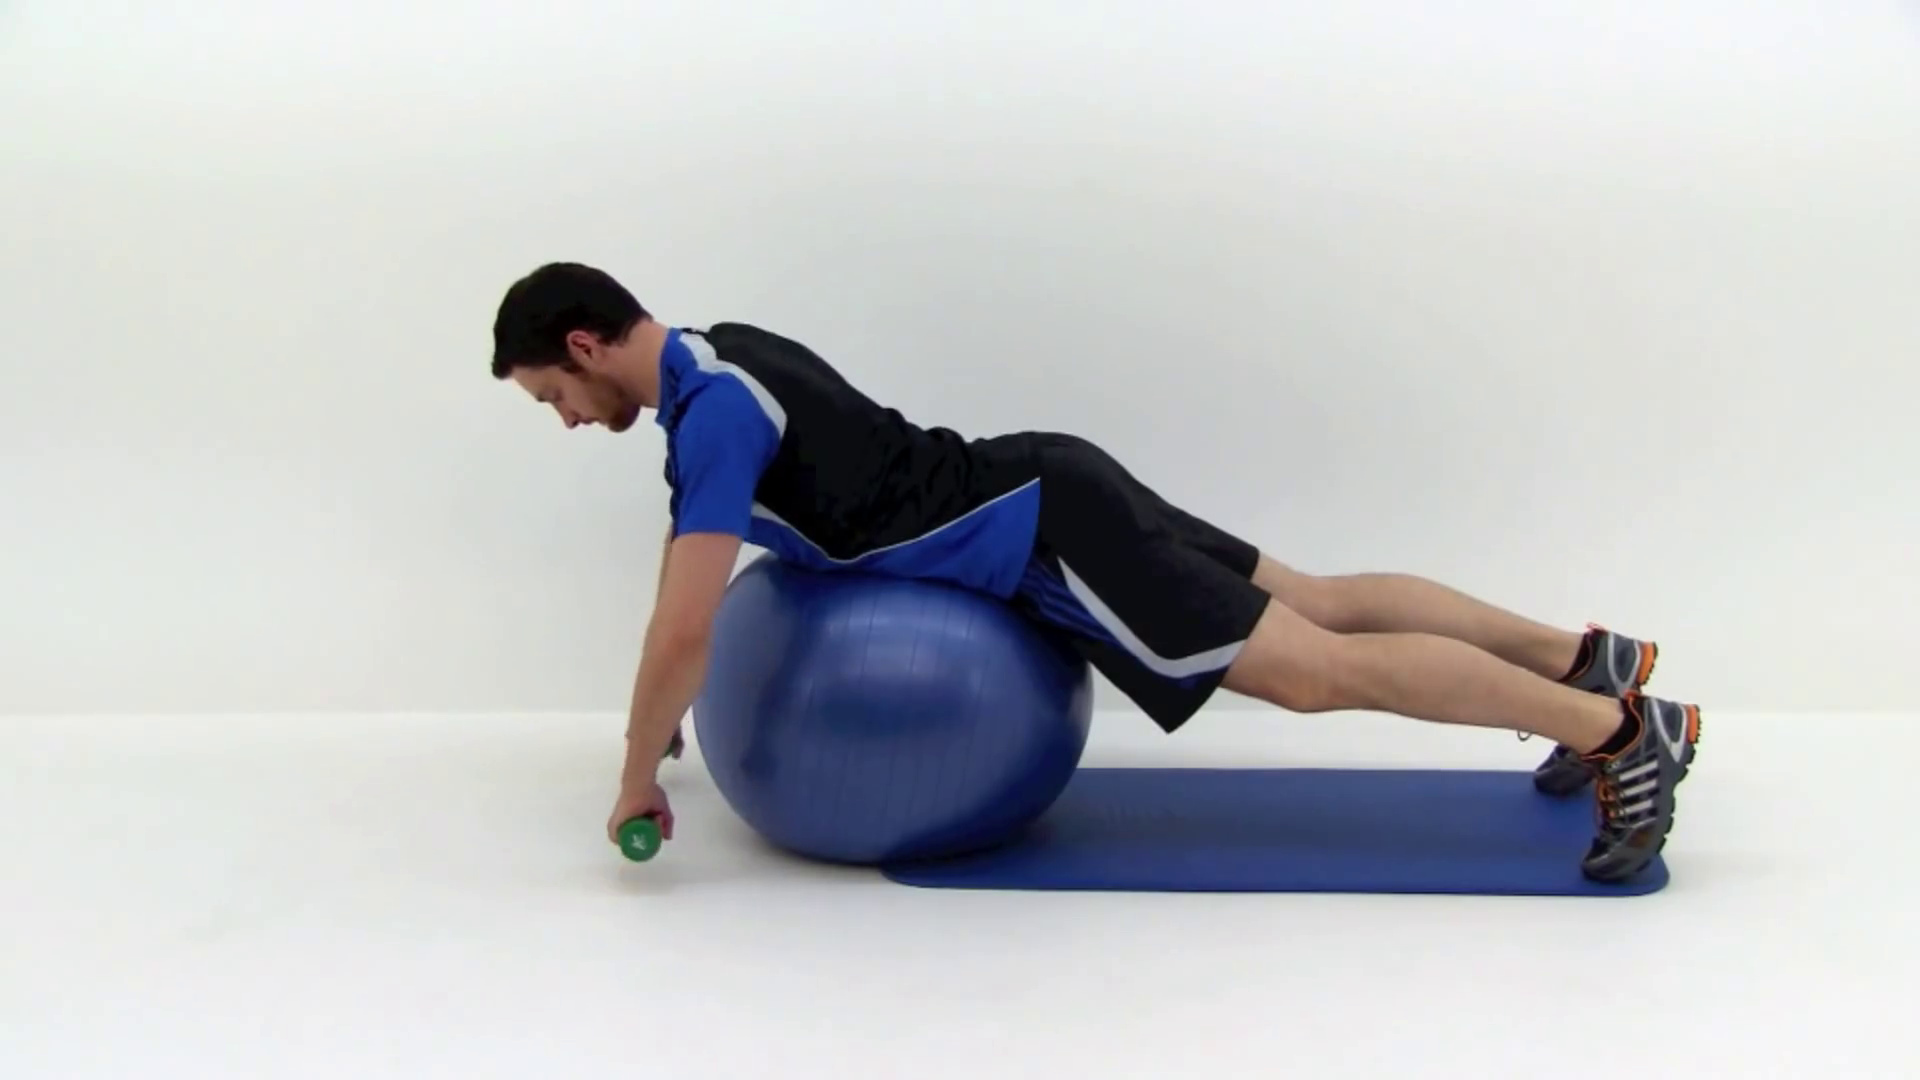yogaball: (687, 541, 1116, 876)
